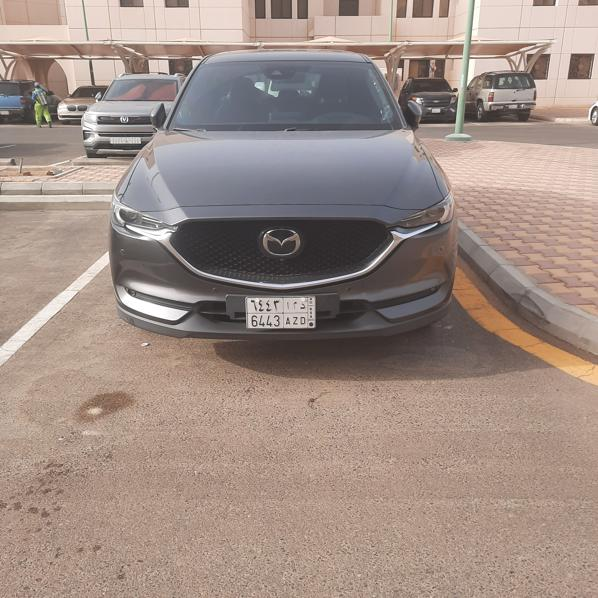numberplate: (245, 297, 316, 328)
